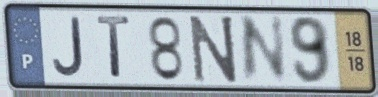8: (145, 14, 185, 83)
9: (287, 14, 335, 87)
J: (50, 14, 87, 79)
N: (187, 13, 241, 85), (238, 13, 290, 86)
T: (94, 14, 134, 82)
